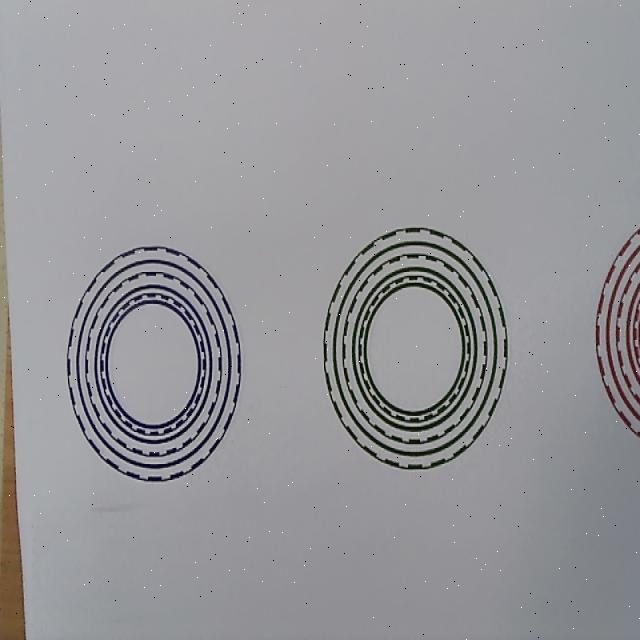b: (66, 245, 242, 483)
g: (322, 227, 508, 469)
